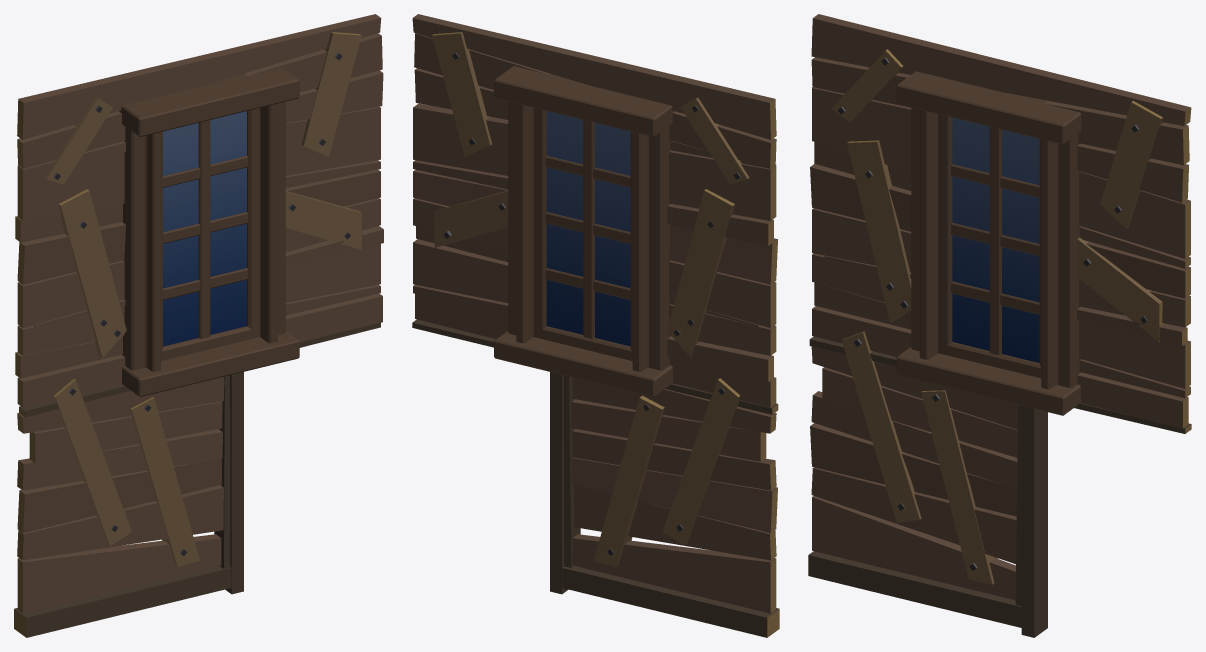
Rendered from Wall_1L_Win_Door_4mx6m.fbx.
3 views of the same model, side by side, from view 1: azimuth 30°, elevation 25°; view 2: azimuth 150°, elevation 25°; view 3: azimuth 330°, elevation 25° (orthographic). The views are drawn at different scales.
Visible parts, largest first — view 1: pCube2418; view 2: pCube2418; view 3: pCube2418.
Part boxes in pixels (box(x1,y1,x2,y2)): pCube2418: box(14, 14, 383, 637); pCube2418: box(412, 14, 779, 637); pCube2418: box(808, 14, 1191, 637).
Bounding box in the file's own units: 401 × 575 × 80.
